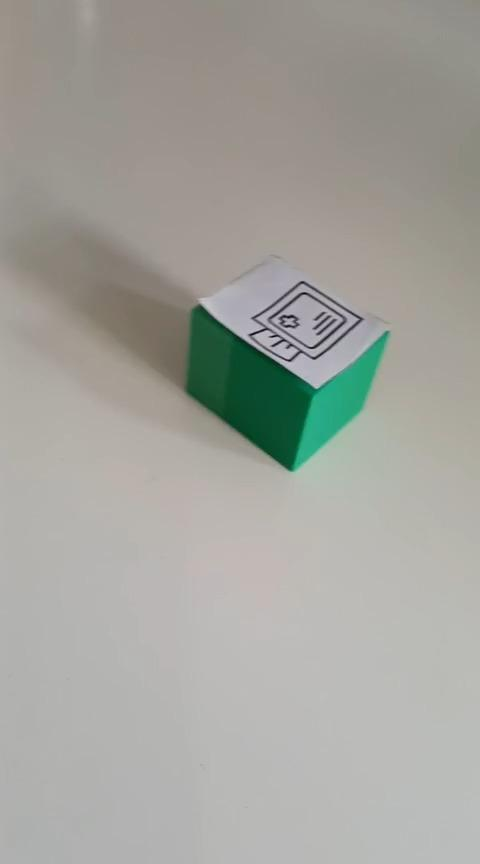Gauze: (184, 252, 392, 472)
